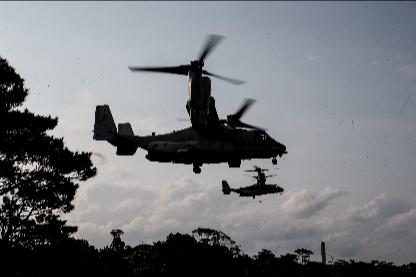Tornado: (92, 33, 289, 173), (223, 164, 285, 197)
